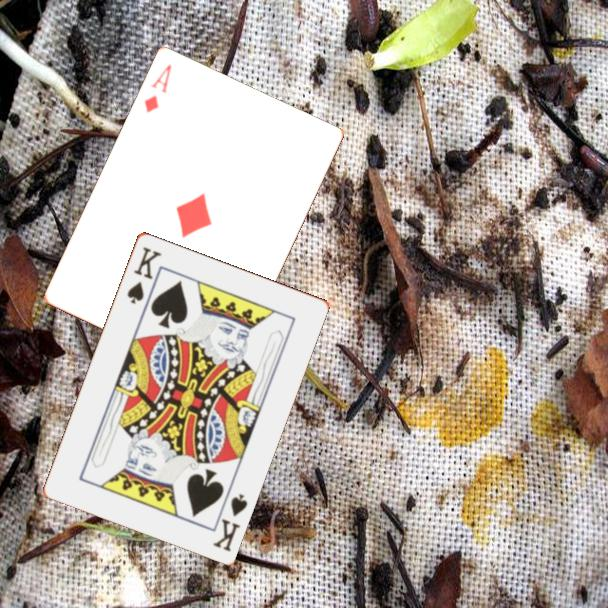d01: (141, 61, 175, 116)
s13: (123, 243, 164, 307), (209, 490, 250, 554)
